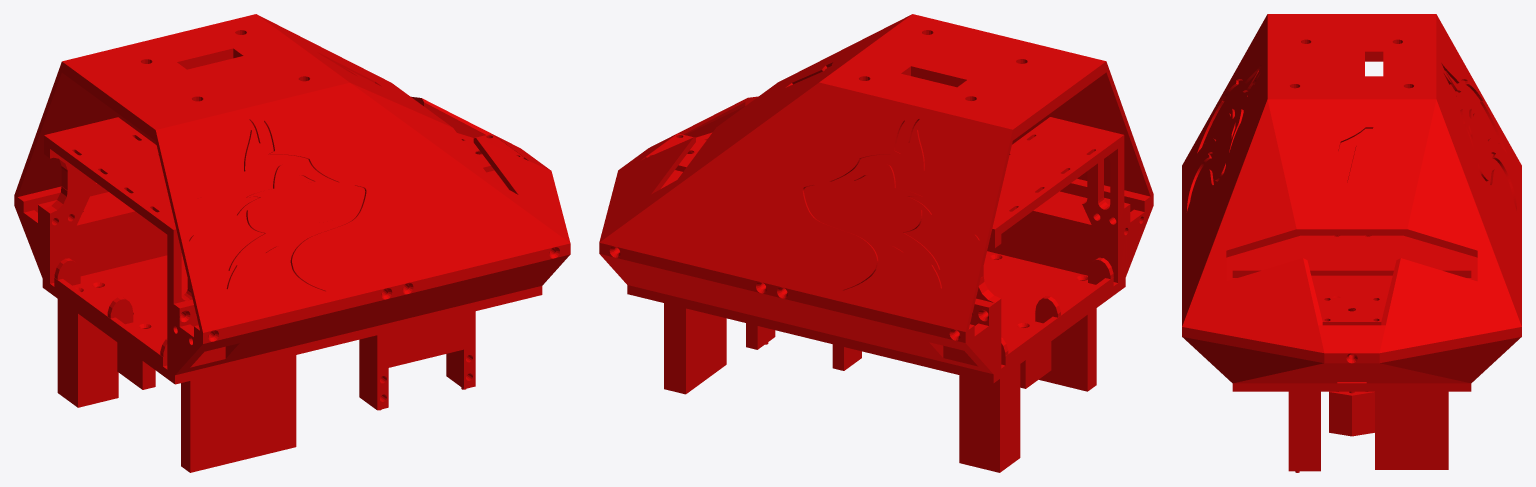
Rendered from mushr_base_tx2_platform.dae.
3 renders of one model, left to right at view 1: azimuth 30°, elevation 25°; view 2: azimuth 150°, elevation 25°; view 3: azimuth 270°, elevation 25°, orthographic. The views are drawn at different scales.
Visible parts, largest first — view 1: Racecar_Platform; view 2: Racecar_Platform; view 3: Racecar_Platform.
Part boxes in pixels (x1,y1,x2,y2): Racecar_Platform: [14, 14, 570, 472]; Racecar_Platform: [599, 14, 1153, 472]; Racecar_Platform: [1182, 14, 1521, 472].
Size of the model in its own units: 0.242 by 0.185 by 0.1894.
